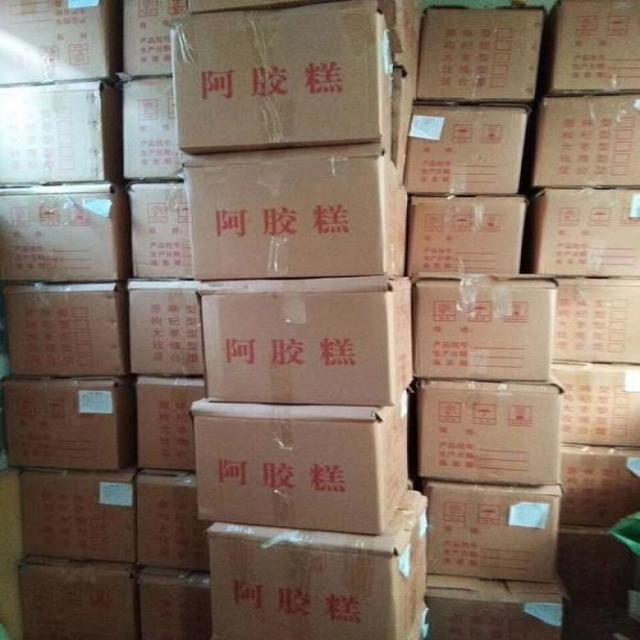box: (166, 0, 396, 161), (186, 388, 412, 536), (209, 489, 430, 639), (183, 140, 409, 281), (197, 275, 415, 406), (416, 476, 561, 582), (420, 378, 557, 486), (417, 278, 556, 380), (2, 371, 142, 470), (17, 458, 141, 566), (0, 77, 122, 185), (0, 184, 129, 282), (1, 278, 131, 375), (405, 101, 532, 199), (419, 7, 546, 103), (524, 95, 639, 191), (403, 192, 527, 277), (0, 1, 120, 86), (525, 189, 639, 276), (19, 556, 140, 636), (539, 0, 639, 92), (557, 525, 639, 636), (428, 574, 561, 639), (137, 473, 218, 572), (550, 279, 639, 369), (550, 362, 639, 451), (130, 280, 209, 380), (122, 183, 200, 280), (557, 440, 639, 530), (134, 374, 208, 473), (119, 79, 185, 185), (137, 563, 210, 637), (380, 3, 428, 82), (393, 56, 420, 183)
